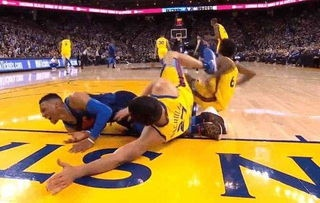falling: (49, 76, 211, 168)
